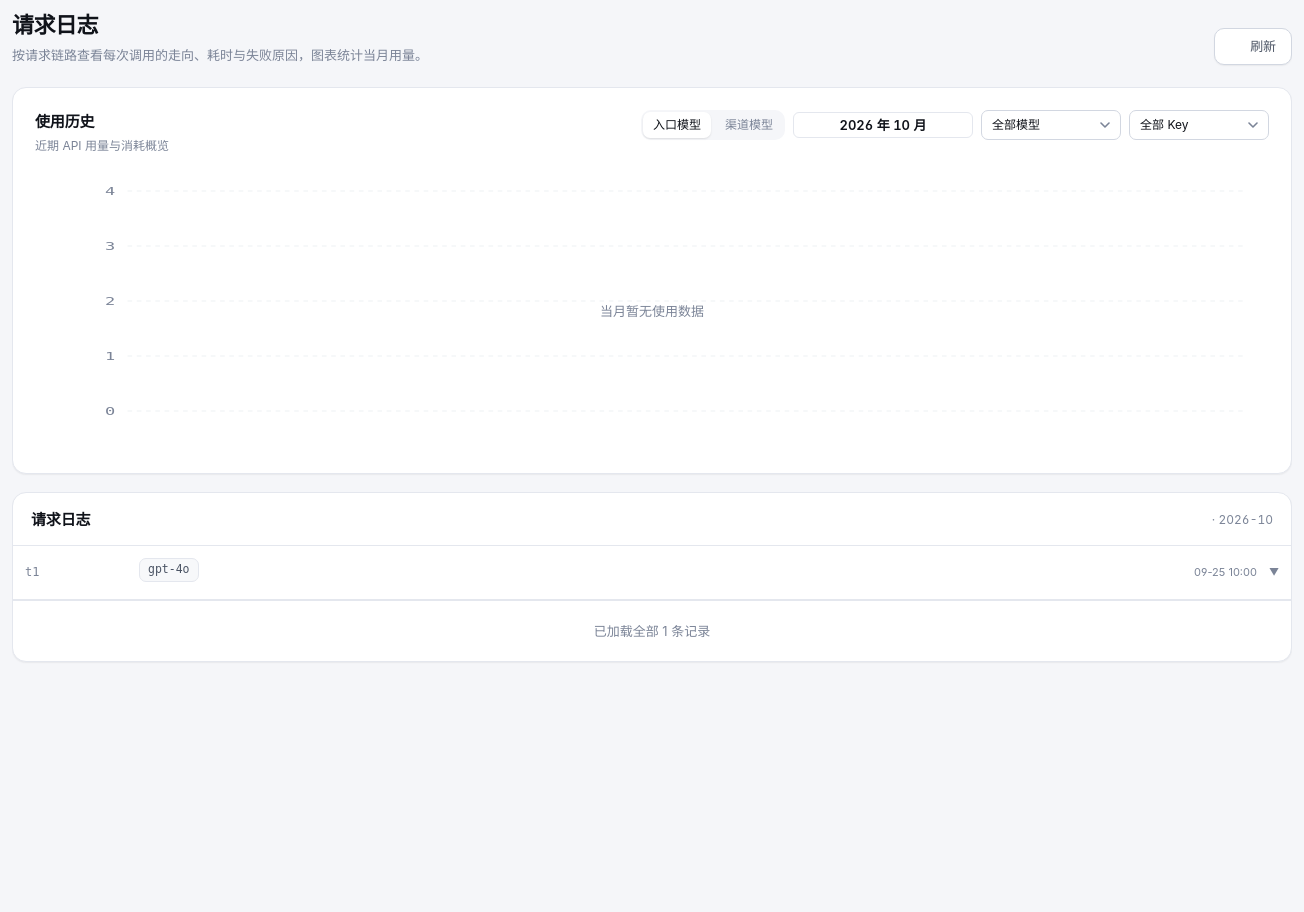
请求日志页 - 性能重构回归 › 粘性回退用不同徽章区分，便于解释为何没命中粘性成员
Click the element with class "log-trace": (652, 573) [13,546,1291,600]
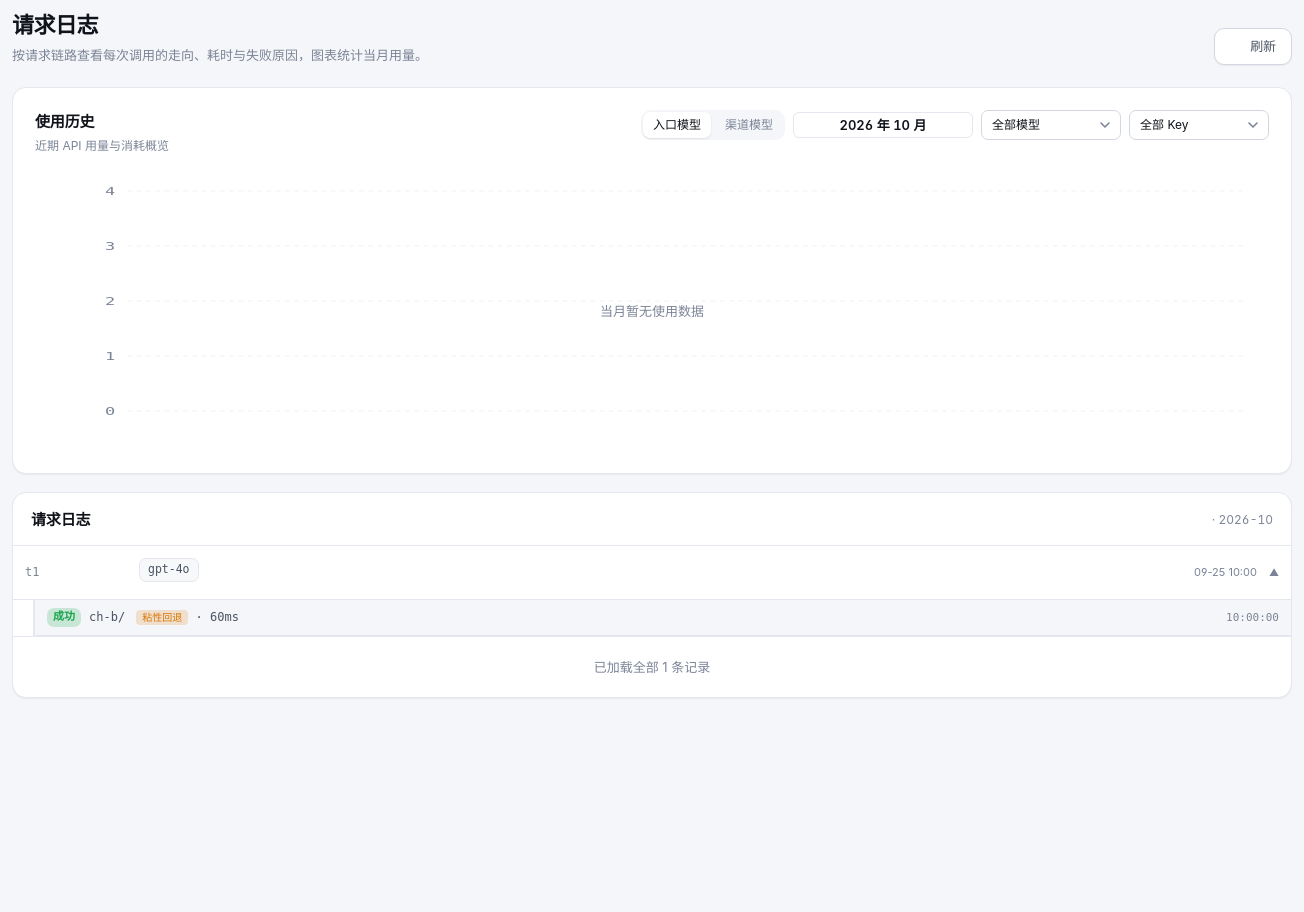
Check: the text "粘性回退" is shown, box [136,610,188,625]
Check: the text with class "route-source-badge" reads "粘性回退", box [142,612,182,623]
